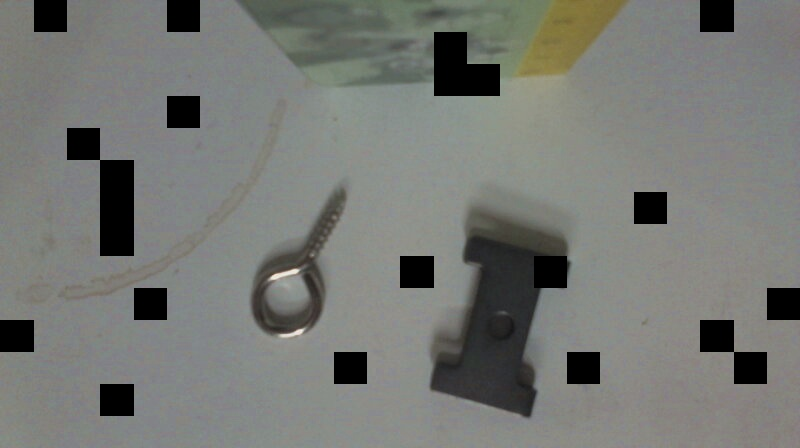O001: (245, 183, 353, 344)
O002: (426, 232, 574, 420)
